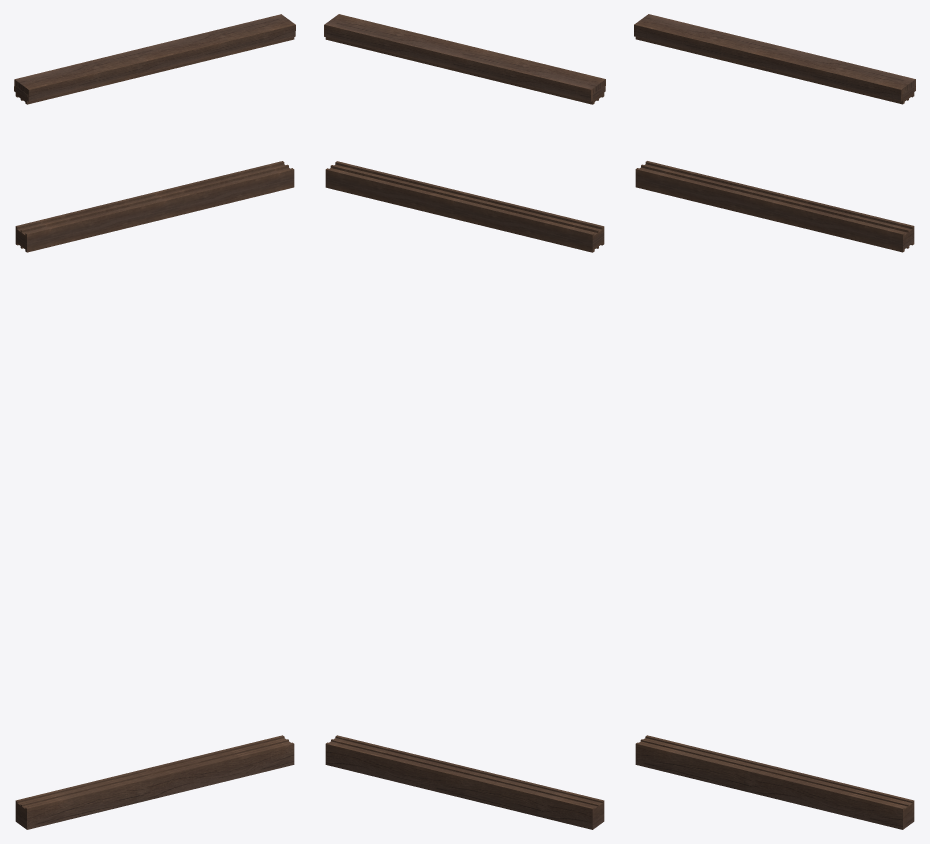
The model's file is jov_outwall01_0t_to_e2.fbx.
3 renders of one model, left to right at view 1: azimuth 30°, elevation 25°; view 2: azimuth 150°, elevation 25°; view 3: azimuth 330°, elevation 25°, orthographic.
Visible parts, largest first — view 1: jov_outwall01_0t_to_e2; view 2: jov_outwall01_0t_to_e2; view 3: jov_outwall01_0t_to_e2.
Part boxes in pixels (bbox=[...]): jov_outwall01_0t_to_e2: bbox=[14, 14, 295, 829]; jov_outwall01_0t_to_e2: bbox=[324, 14, 605, 829]; jov_outwall01_0t_to_e2: bbox=[634, 14, 915, 829].
Bounding box in the file's own units: 110 × 292 × 10.57.
